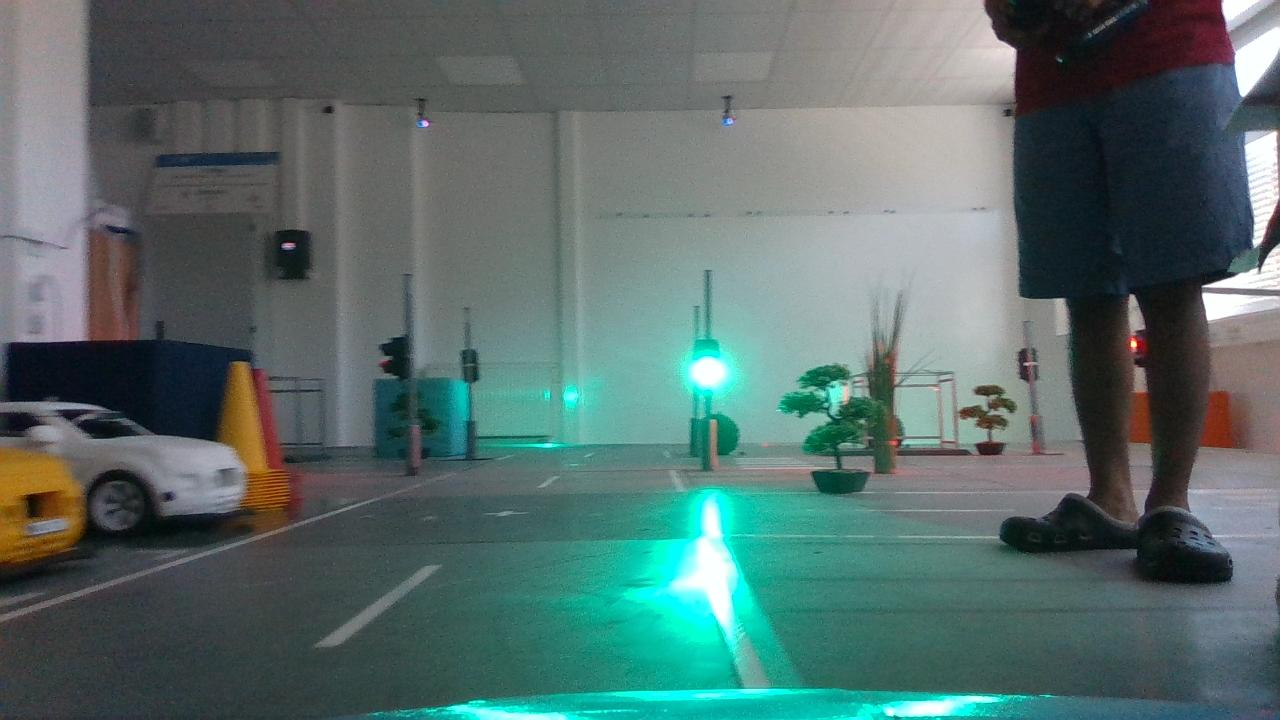traffic_light_green: (685, 333, 739, 403)
